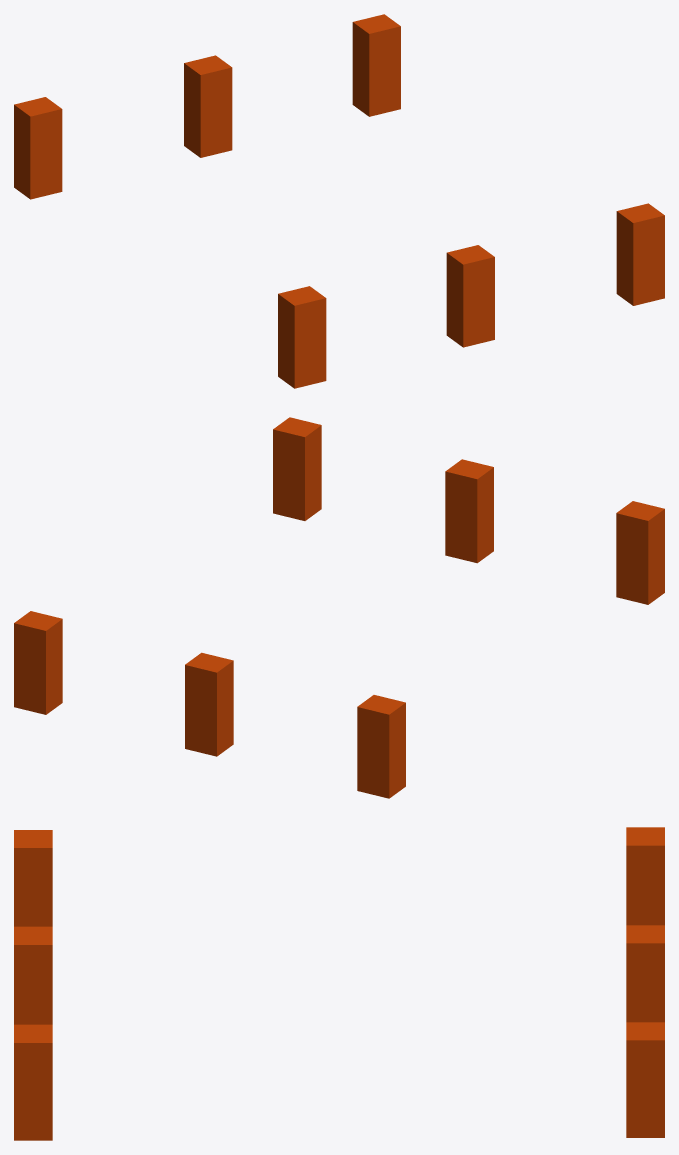
File: building_base.obj
3 views of the same model, one above another, from view 1: azimuth 30°, elevation 25°; view 2: azimuth 150°, elevation 25°; view 3: azimuth 270°, elevation 25° (orthographic). The views are drawn at different scales.
Parts seen in each view (by area): view 1: Cube.185_Cube.226, Cube.072_Cube.115, Cube.148_Cube.189, Cube.111_Cube.152, Cube.006_Cube.078, Cube_Cube.001; view 2: Cube.185_Cube.226, Cube.148_Cube.189, Cube.072_Cube.115, Cube.006_Cube.078, Cube.111_Cube.152, Cube_Cube.001; view 3: Cube_Cube.001, Cube.185_Cube.226, Cube.111_Cube.152, Cube.006_Cube.078, Cube.148_Cube.189, Cube.072_Cube.115.
Part boxes in pixels (bbox=[...]): Cube.185_Cube.226: bbox=[352, 14, 400, 116]; Cube.072_Cube.115: bbox=[278, 286, 326, 388]; Cube.148_Cube.189: bbox=[184, 55, 232, 157]; Cube.111_Cube.152: bbox=[14, 97, 62, 199]; Cube.006_Cube.078: bbox=[446, 245, 494, 347]; Cube_Cube.001: bbox=[616, 203, 664, 305]; Cube.185_Cube.226: bbox=[14, 611, 62, 714]; Cube.148_Cube.189: bbox=[185, 652, 233, 756]; Cube.072_Cube.115: bbox=[616, 501, 664, 604]; Cube.006_Cube.078: bbox=[445, 459, 493, 563]; Cube.111_Cube.152: bbox=[357, 695, 405, 798]; Cube_Cube.001: bbox=[273, 417, 321, 520]; Cube_Cube.001: bbox=[14, 1024, 52, 1140]; Cube.185_Cube.226: bbox=[626, 1022, 664, 1137]; Cube.111_Cube.152: bbox=[626, 827, 664, 925]; Cube.006_Cube.078: bbox=[14, 926, 52, 1024]; Cube.148_Cube.189: bbox=[626, 925, 664, 1022]; Cube.072_Cube.115: bbox=[14, 830, 52, 926].
Size of the model in its own units: 52.47 by 11.1 by 67.02.
